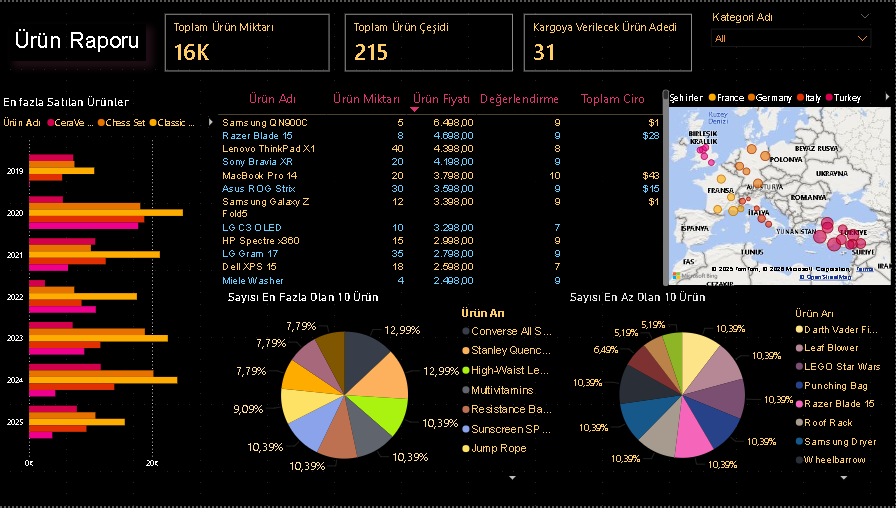

Layout of this report page (visuals, bound fields, positions):
{"tool":"powerbi","page":{"name":"Ürünler","canvas":[1280,720],"ordinal":1},"visuals":[{"type":"cardVisual","fields":{"Data":["Measure Table.Toplam Ürün Miktarı"]},"box":[220.6,0,269.5,116.2],"z":0},{"type":"cardVisual","fields":{"Data":["Measure Table.Toplam Ürün Çeşidi"]},"box":[476.6,0,274.5,116.2],"z":1000},{"type":"slicer","fields":{"Values":["categories.category_name"]},"box":[1007.8,6.7,248.9,61.1],"z":2000},{"type":"tableEx","fields":{"Values":["products.product_name","Sum(product_stocks.quantity)","Sum(product_prices.price)","Sum(product_reviews.rating)","Measure Table.Toplam Ciro"]},"box":[306.5,119.6,655.2,291.4],"z":3000},{"type":"pieChart","title":"Sayısı En Fazla Olan 10  Ürün","fields":{"Y":["Sum(product_stocks.quantity)"],"Category":["products.product_name"]},"box":[321.7,410.9,488.4,281.3],"z":4000},{"type":"pieChart","title":"Sayısı En Az Olan 10  Ürün","fields":{"Y":["Sum(product_stocks.quantity)"],"Category":["products.product_name"]},"box":[810.1,410.9,469.9,281.3],"z":5000},{"type":"clusteredBarChart","title":"En fazla Satılan Ürünler","fields":{"Category":["DimDate.Date.Variation.Date Hierarchy.Year","DimDate.Date.Variation.Date Hierarchy.Quarter","DimDate.Date.Variation.Date Hierarchy.Month","DimDate.Date.Variation.Date Hierarchy.Day"],"Y":["Measure Table.Toplam Satılan Ürün"],"Series":["products.product_name"]},"box":[0,133.1,321.7,544],"z":6000},{"type":"textbox","box":[15.7,31.4,194.3,52.9],"z":7000},{"type":"map","fields":{"Size":["Measure Table.Toplam Satılan Ürün"],"Category":["cities.city_name"],"Series":["countries.country_name"]},"box":[953.3,116.2,326.7,294.7],"z":8000},{"type":"cardVisual","fields":{"Data":["Measure Table.GÖNDERİLECEK ÜRÜN SAYISI"]},"box":[733.3,0,274.4,116.7],"z":9000}]}

Visuals, with their boxes in screenshot pixels (x1, y1, x2, y2), scaled from the page's 1280x720 canvas onto the 896x508 screenshot:
cardVisual - Measure Table.Toplam Ürün Miktarı: BBox(154, 0, 343, 82)
cardVisual - Measure Table.Toplam Ürün Çeşidi: BBox(334, 0, 526, 82)
slicer - categories.category_name: BBox(705, 5, 880, 48)
tableEx - products.product_name x Sum(product_stocks.quantity): BBox(215, 84, 673, 290)
"Sayısı En Fazla Olan 10  Ürün" pieChart: BBox(225, 290, 567, 488)
"Sayısı En Az Olan 10  Ürün" pieChart: BBox(567, 290, 895, 488)
"En fazla Satılan Ürünler" clusteredBarChart: BBox(0, 94, 225, 478)
textbox: BBox(11, 22, 147, 59)
map - Measure Table.Toplam Satılan Ürün x cities.city_name: BBox(667, 82, 895, 290)
cardVisual - Measure Table.GÖNDERİLECEK ÜRÜN SAYISI: BBox(513, 0, 705, 82)
